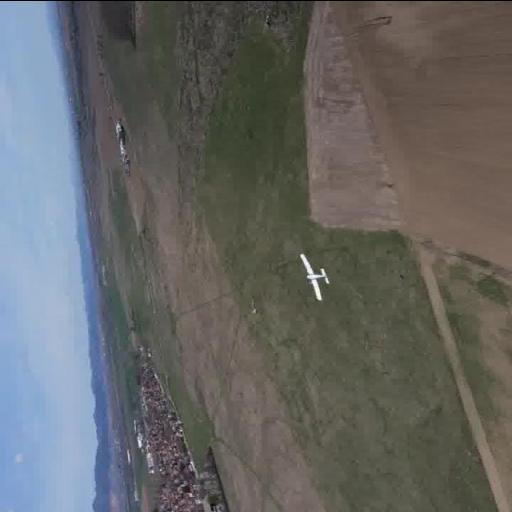uav: (294, 252, 336, 306)
